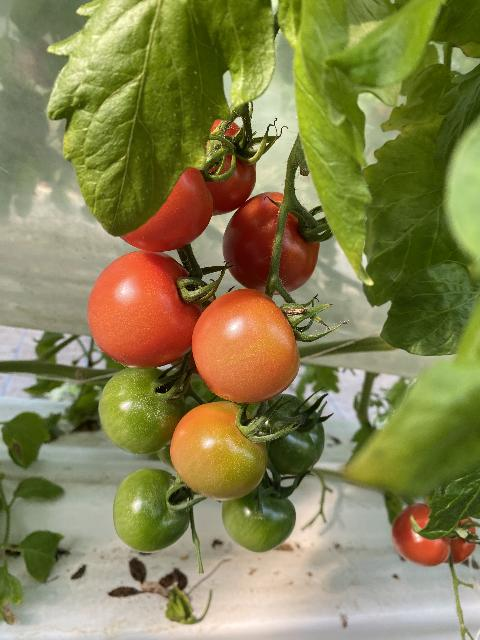l_fully_ripened: (86, 249, 202, 369), (223, 191, 321, 295), (119, 166, 215, 252), (200, 118, 256, 215), (390, 503, 451, 567), (445, 516, 476, 564)
l_green: (98, 367, 188, 455), (112, 467, 193, 552), (253, 393, 327, 476), (222, 482, 297, 553), (444, 116, 480, 259)
l_half_ripened: (190, 288, 300, 404), (170, 401, 268, 499)
